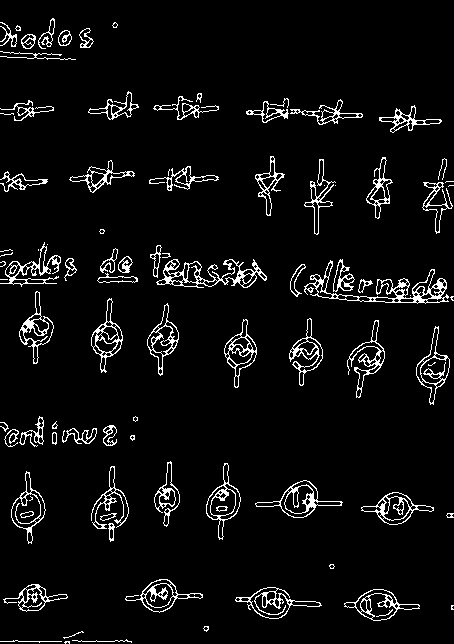diode: (298, 172, 341, 219), (417, 169, 454, 217), (80, 157, 123, 198), (168, 85, 210, 126), (162, 161, 202, 203), (258, 90, 297, 130), (248, 166, 288, 204), (381, 101, 423, 136), (364, 173, 399, 214), (5, 91, 39, 131), (99, 90, 139, 123), (311, 96, 348, 129), (1, 164, 34, 198)
signal: (412, 345, 454, 397), (344, 334, 389, 382), (143, 315, 182, 366), (16, 308, 60, 351), (224, 330, 259, 379), (286, 333, 324, 378), (89, 315, 124, 363)
voltage: (369, 488, 423, 528), (89, 484, 131, 533), (204, 477, 242, 529), (349, 587, 405, 622), (276, 479, 326, 518), (10, 485, 47, 536), (245, 585, 296, 620), (137, 576, 183, 613), (12, 580, 54, 616), (150, 476, 181, 519)
